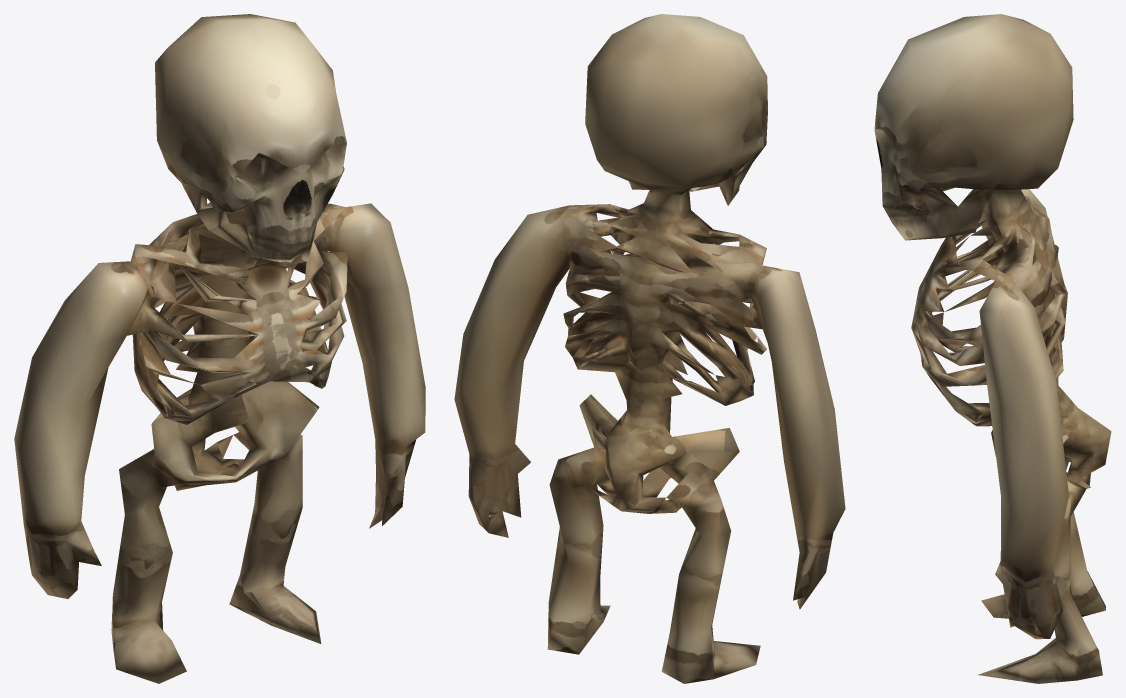
File: skeleton_single_1500.glb
3 views of the same model, side by side, from view 1: azimuth 30°, elevation 25°; view 2: azimuth 150°, elevation 25°; view 3: azimuth 270°, elevation 25° (orthographic). The views are drawn at different scales.
Bounding box in the file's own units: 0.5587 × 0.8591 × 0.295.
Materials: 1 (1 with a texture image).
